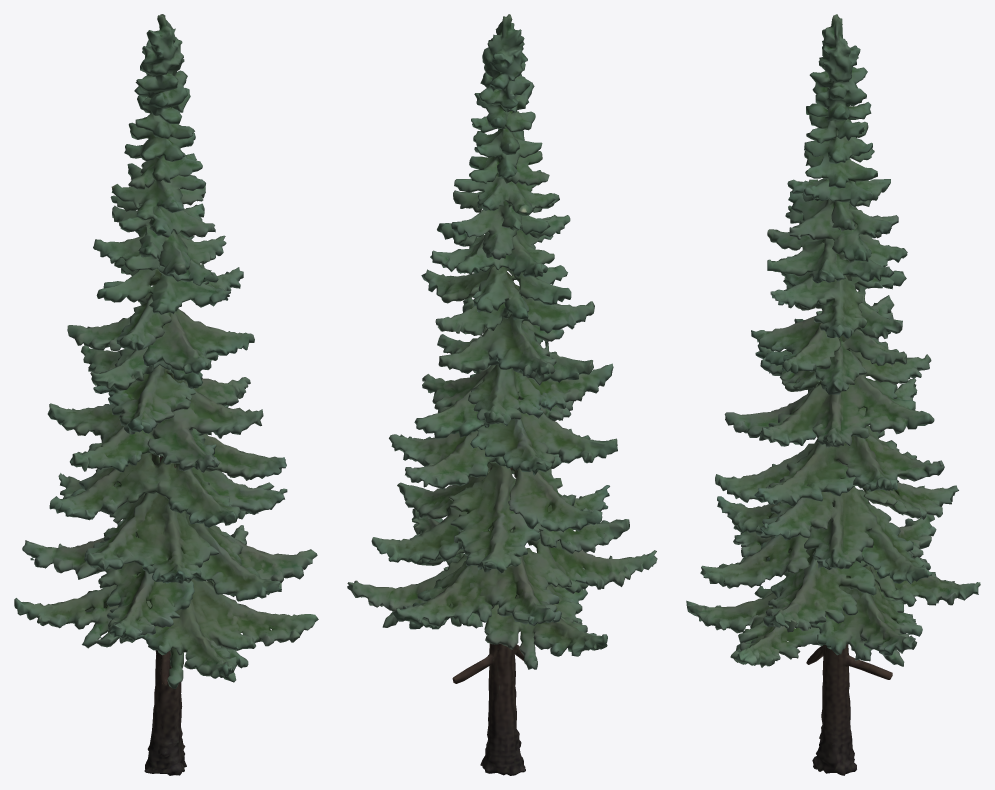
File: tree_22_black_spruce.glb
3 views of the same model, side by side, from view 1: azimuth 30°, elevation 25°; view 2: azimuth 150°, elevation 25°; view 3: azimuth 270°, elevation 25° (orthographic).
Visible parts, largest first — view 1: world; view 2: world; view 3: world.
Part boxes in pixels (bbox=[...]): world: bbox=[14, 14, 318, 775]; world: bbox=[347, 14, 657, 775]; world: bbox=[686, 14, 980, 775].
Size of the model in its own units: 0.3445 by 1 by 0.3564.
Materials: 1 (1 with a texture image).
